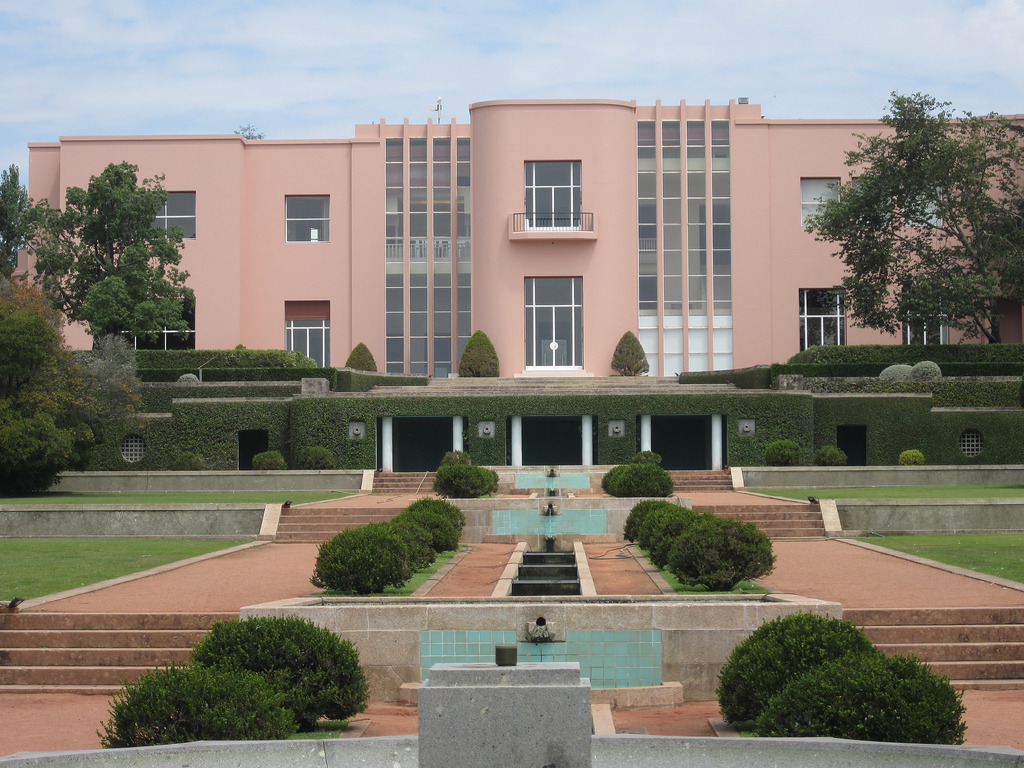serralves: (25, 97, 1023, 379)
